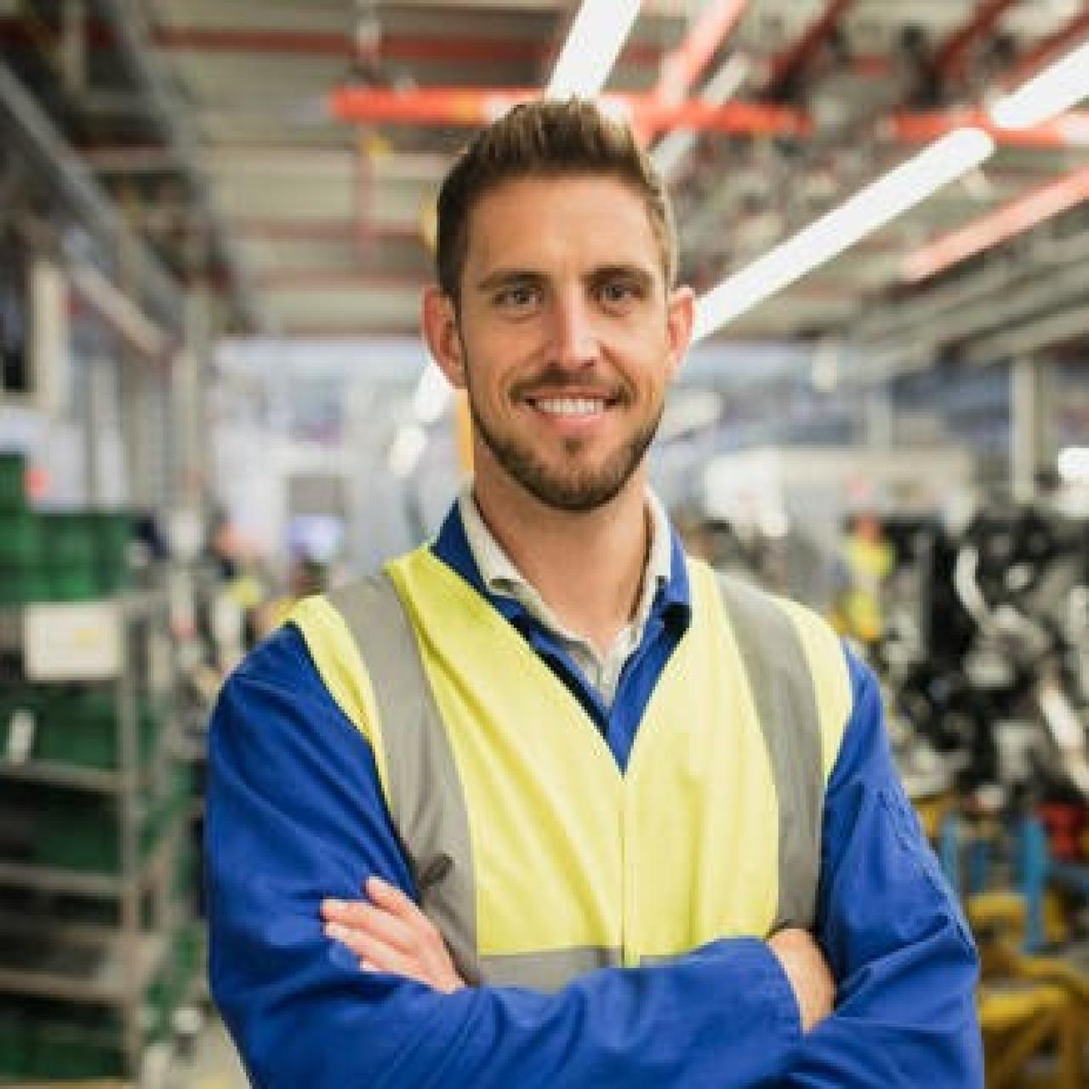Person: (143, 75, 981, 1089)
Safety_Vest: (308, 535, 882, 1089)
